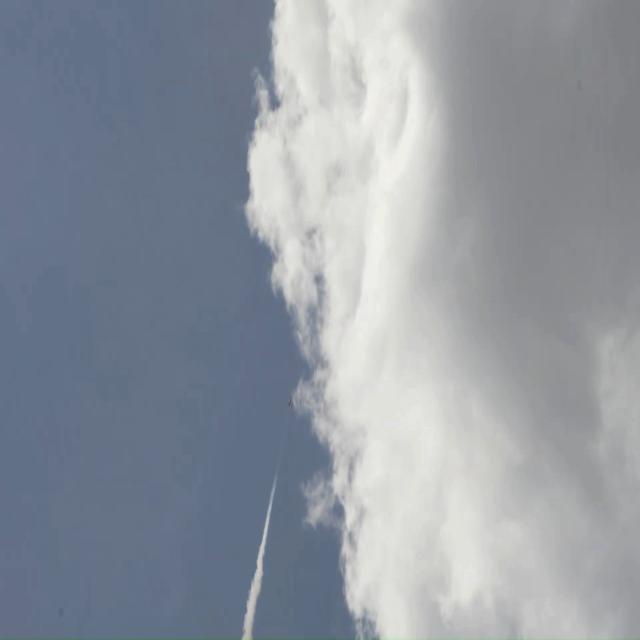Rocket: (288, 395, 292, 407)
